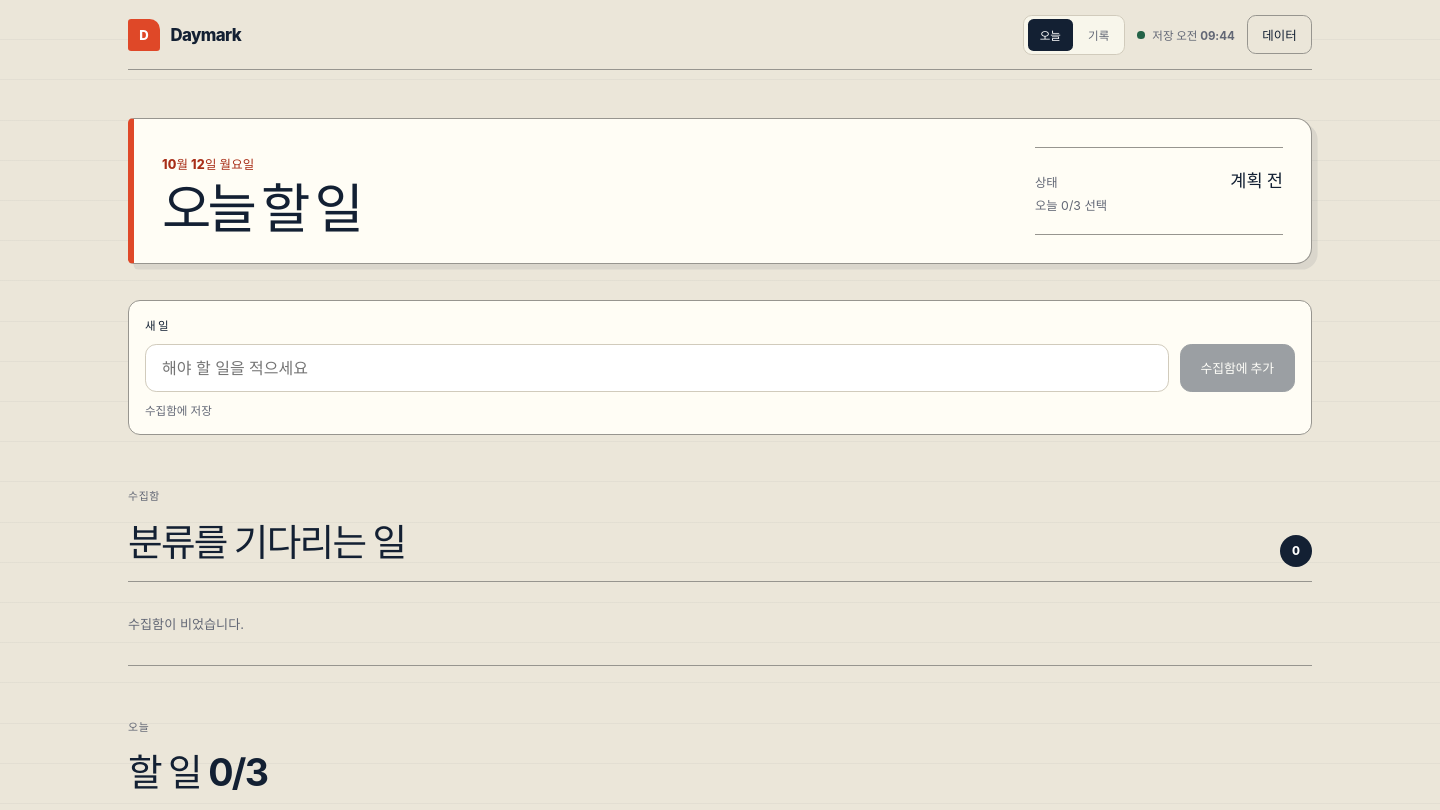
it: Daymark 첫 사용 흐름 › 같은 revision의 저장 CAS 실패도 충돌 화면으로 연결한다
Type "현재 탭 작업" into the field labelled "새 일".
click(657, 368); type("현재 탭 작업")  # box [145,344,1169,392]
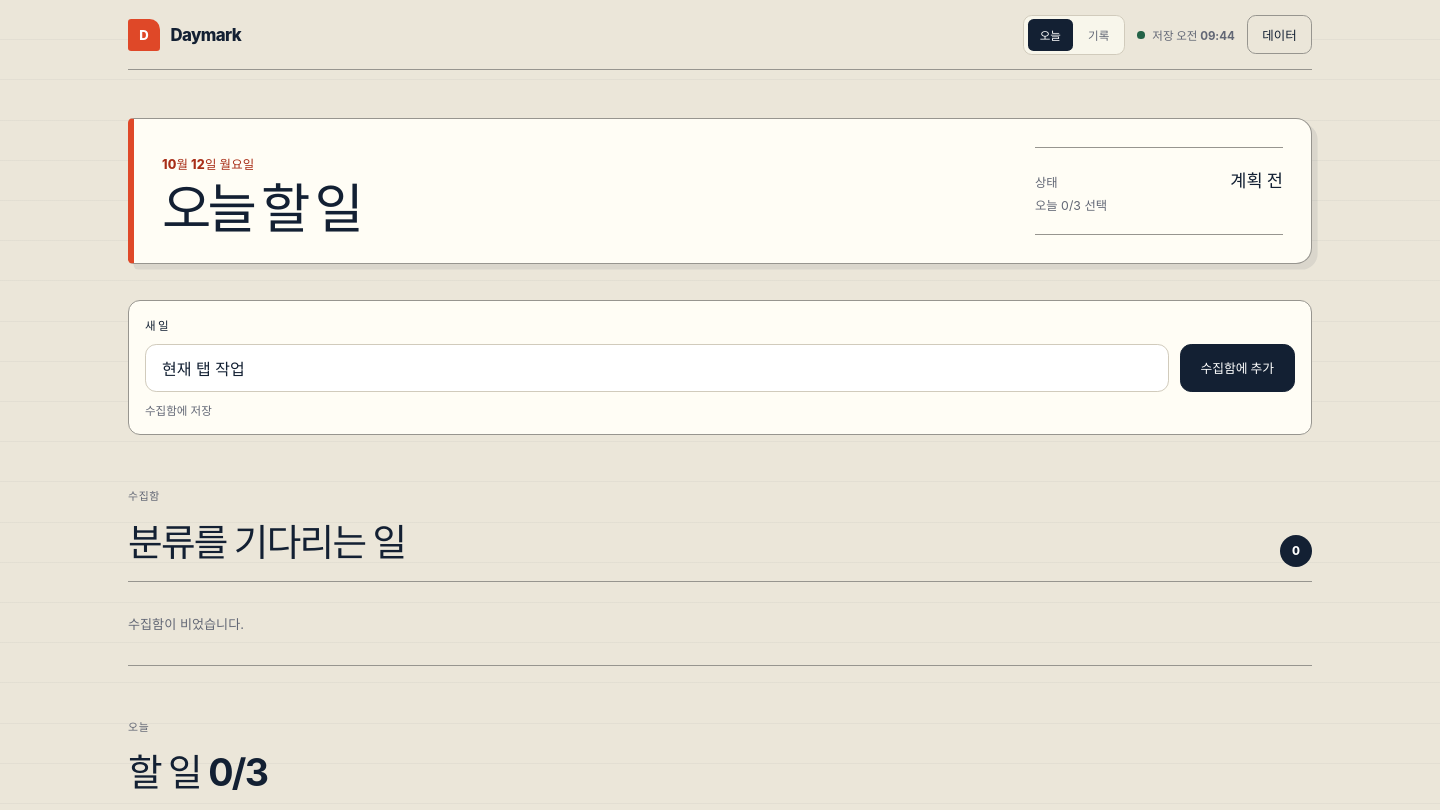
Click the button "수집함에 추가".
click(1237, 368)  # box [1180,344,1295,392]
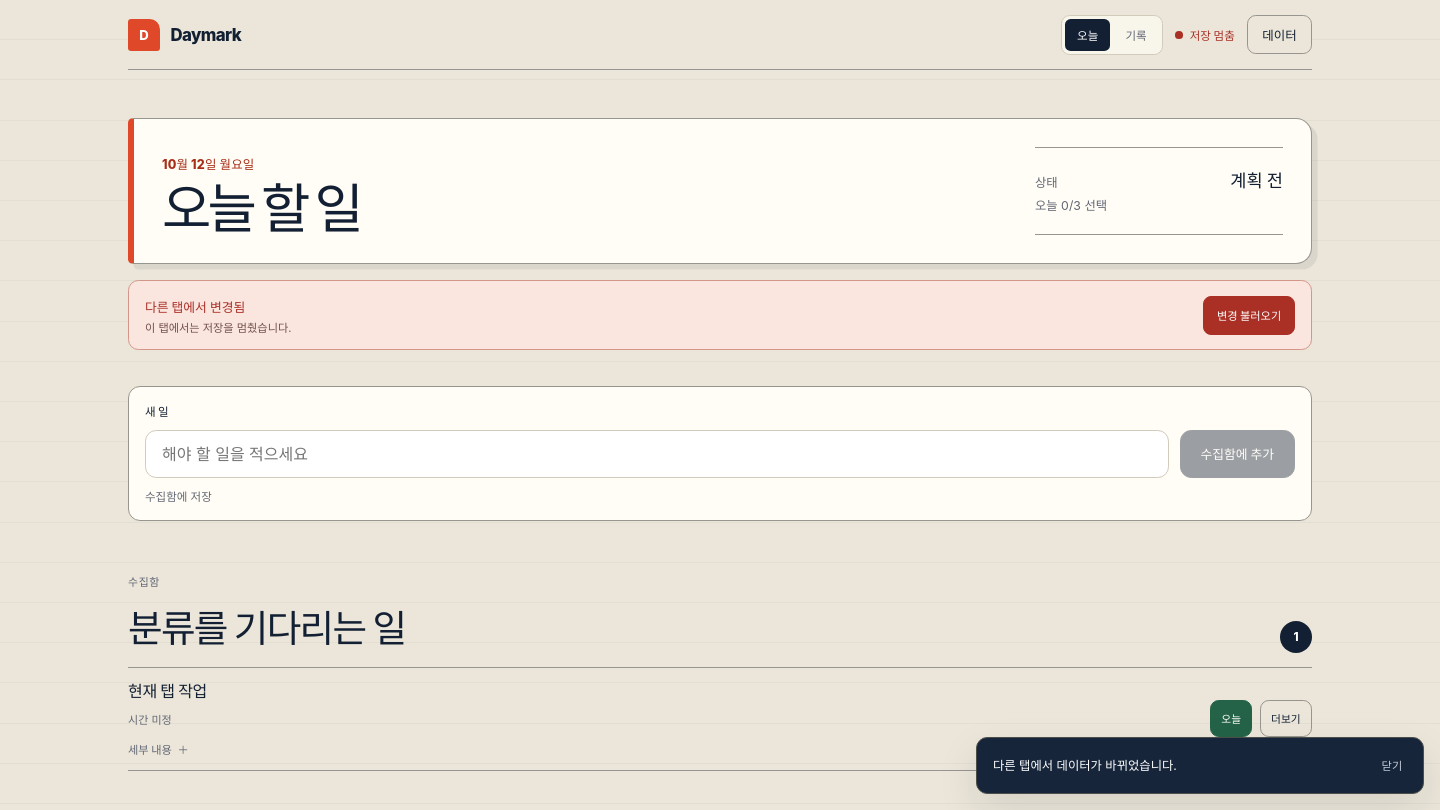
Result: the text "다른 탭에서 변경됨" is shown at [145,300,245,315]
